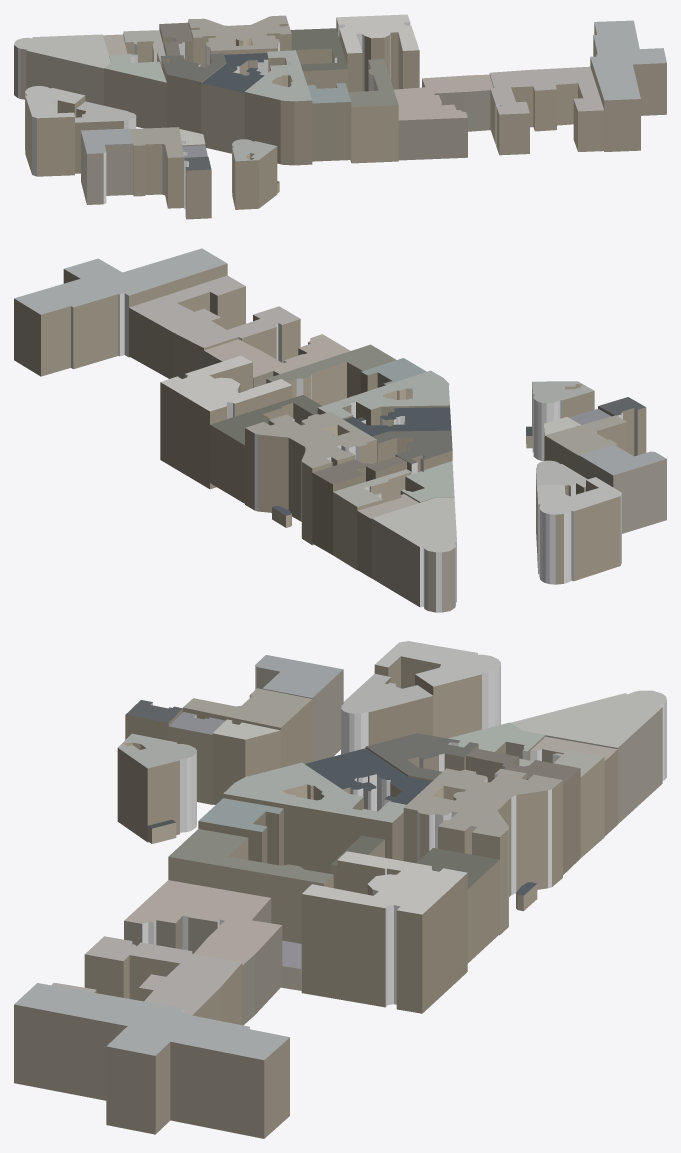
3 renders of one model, top to bottom at view 1: azimuth 30°, elevation 25°; view 2: azimuth 150°, elevation 25°; view 3: azimuth 270°, elevation 25°, orthographic. The views are drawn at different scales.
Parts seen in each view (by area): view 1: tuile; view 2: tuile; view 3: tuile.
Boxes of the visible parts, bbox=[...] form: tuile: bbox=[14, 14, 666, 219]; tuile: bbox=[14, 248, 666, 612]; tuile: bbox=[14, 641, 666, 1138].
Size of the model in its own units: 276 by 32.72 by 184.
